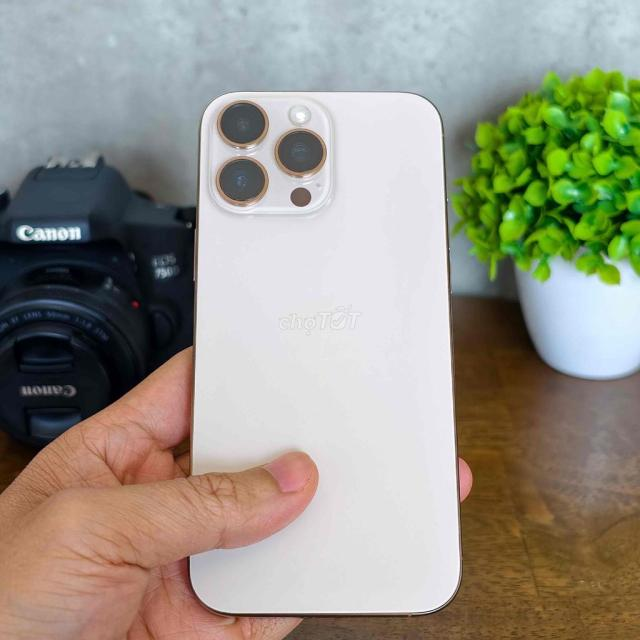gen_16: (188, 91, 462, 616)
